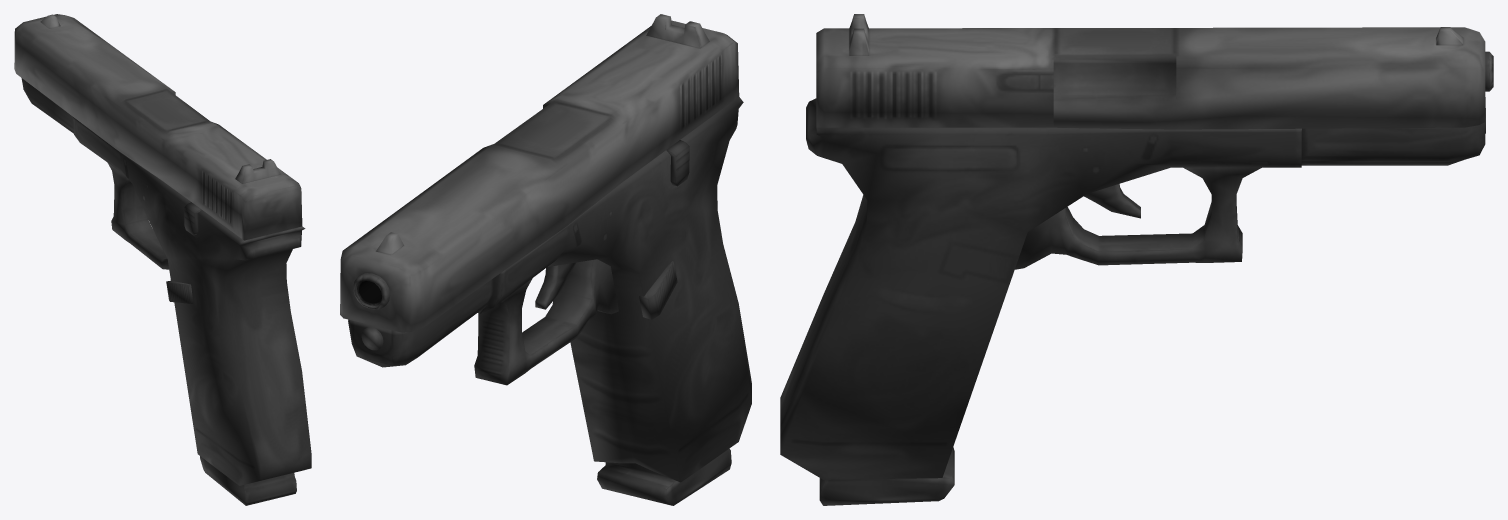
Rendered from Glock.fbx.
3 renders of one model, left to right at view 1: azimuth 30°, elevation 25°; view 2: azimuth 150°, elevation 25°; view 3: azimuth 270°, elevation 25°, orthographic. The views are drawn at different scales.
Parts seen in each view (by area): view 1: Glock, GlockBarrel, GlockMagazine; view 2: Glock, GlockBarrel, GlockMagazine, GlockTrigger; view 3: Glock, GlockBarrel, GlockMagazine, GlockTrigger.
Part boxes in pixels (x1,y1,x2,y2): Glock: (21,78,311,485); GlockBarrel: (14,14,302,240); GlockMagazine: (200,456,296,505); Glock: (348,97,751,482); GlockBarrel: (340,14,739,332); GlockMagazine: (597,448,731,505); GlockTrigger: (535,262,575,309); Glock: (780,51,1493,479); GlockBarrel: (816,14,1485,129); GlockMagazine: (819,447,954,505); GlockTrigger: (1084,184,1140,218).
Size of the model in its own units: 0.0297 by 0.1846 by 0.1327.
Materials: 1 (1 with a texture image).
